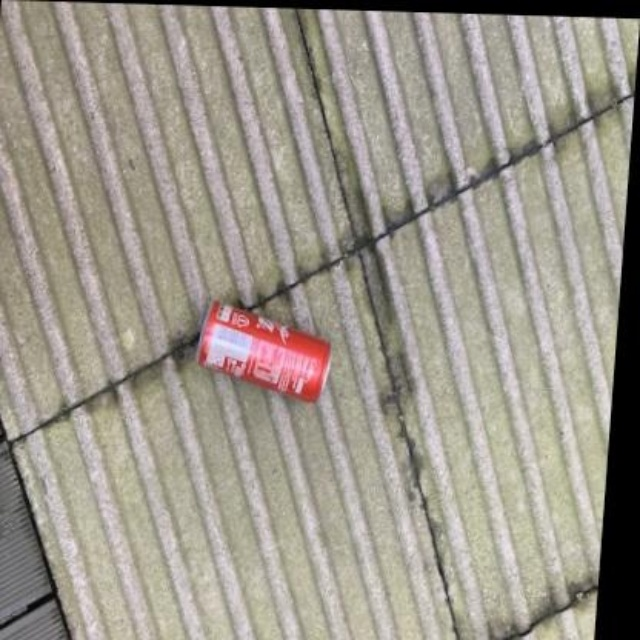trash: (197, 300, 329, 400)
